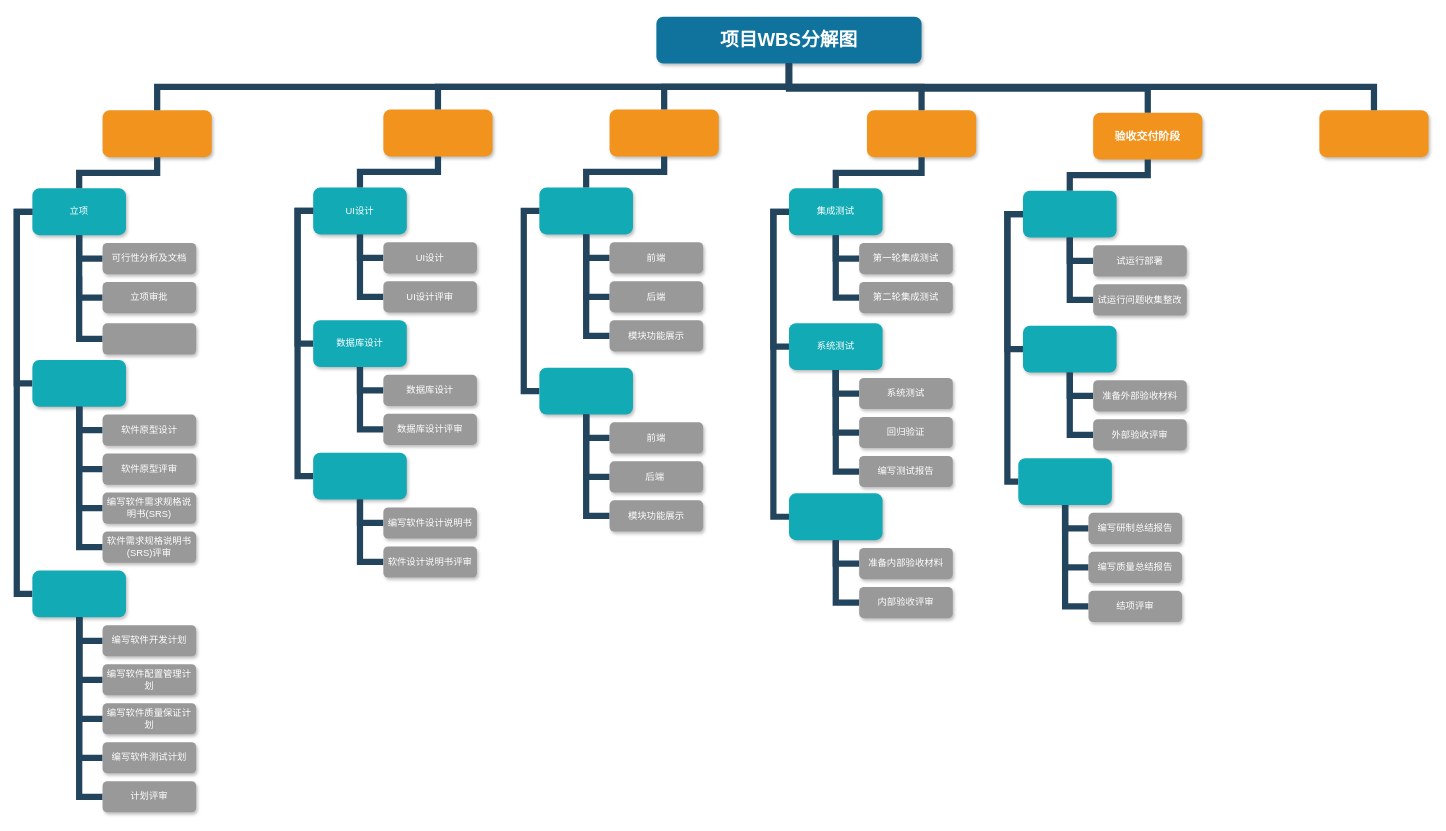
Some shapes in this 1446 by 831 pixel diagram are drawn without their labels. Here are the shapes that lost their labels. From the top down, the centre of each, then its label:
(157,134): 需求分析阶段
(438,133): 软件设计阶段
(664,133): 软件开发阶段
(921,134): 软件测试阶段
(1374,134): 项目管理
(586,211): 网页模块
(1070,215): 试运行
(149,340): 启动会议及团建
(1070,350): 外部验收
(79,384): 需求分析
(586,392): APP模块
(360,477): 程序设计
(1065,482): 结项
(836,517): 内部验收
(79,594): 项目策划
